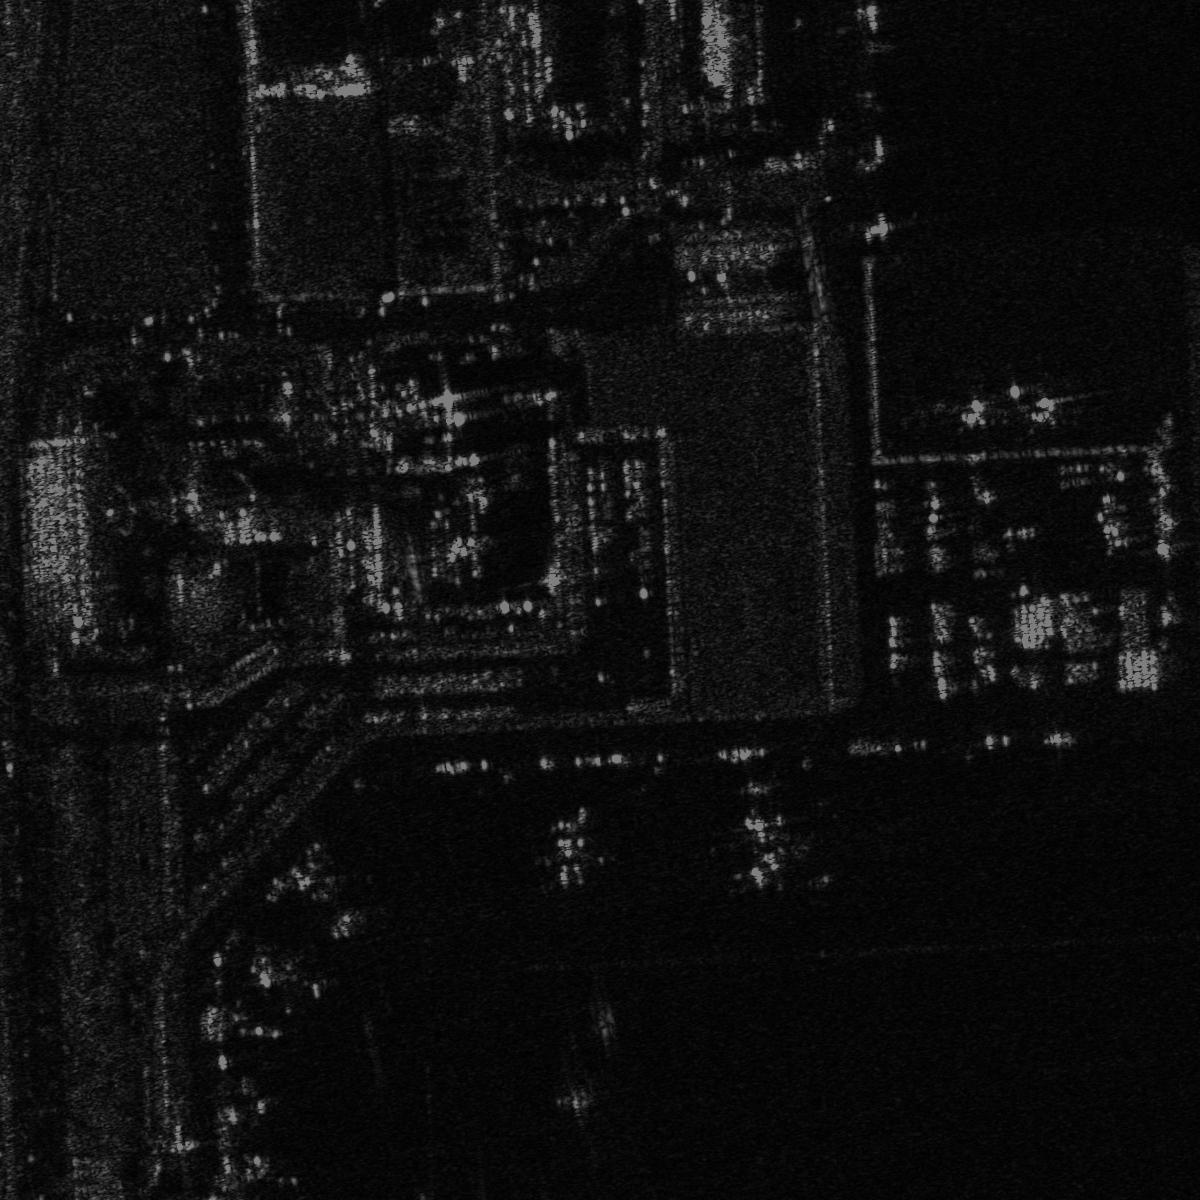A220: (293, 863, 384, 945), (243, 944, 340, 1020)
ARJ21: (942, 379, 1007, 436)
Boeing737: (529, 808, 620, 892)
other: (720, 807, 815, 897), (1012, 382, 1084, 434)
